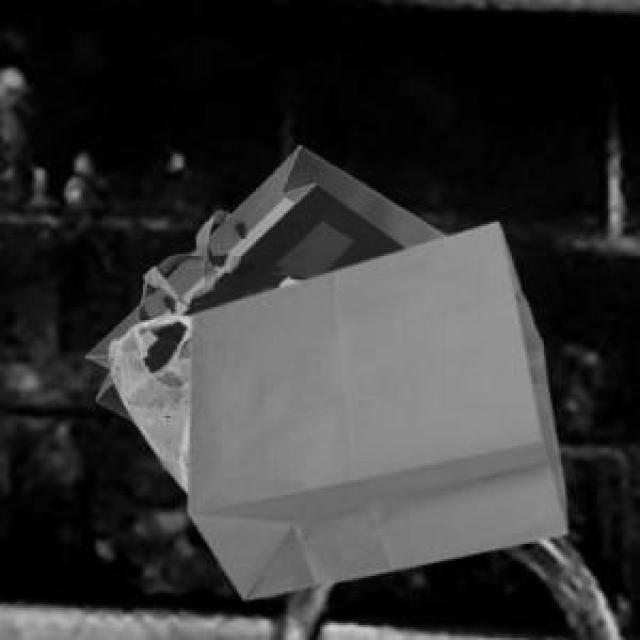paper: (184, 218, 563, 595), (83, 141, 442, 418)
